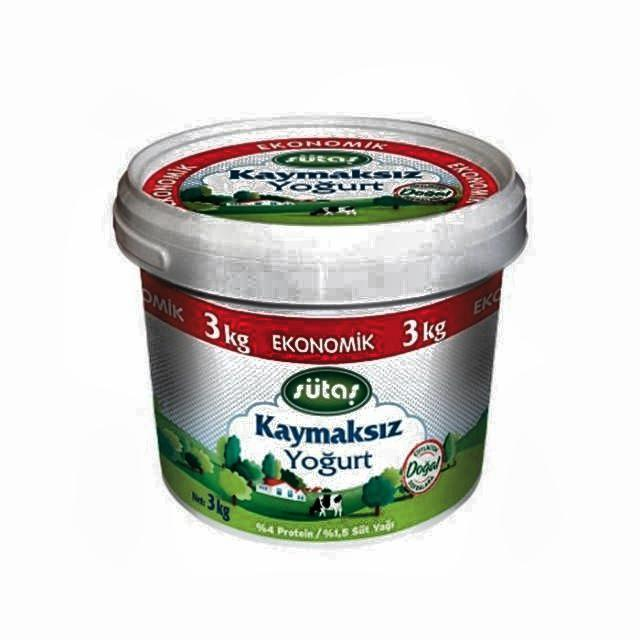plastic: (111, 111, 528, 545)
